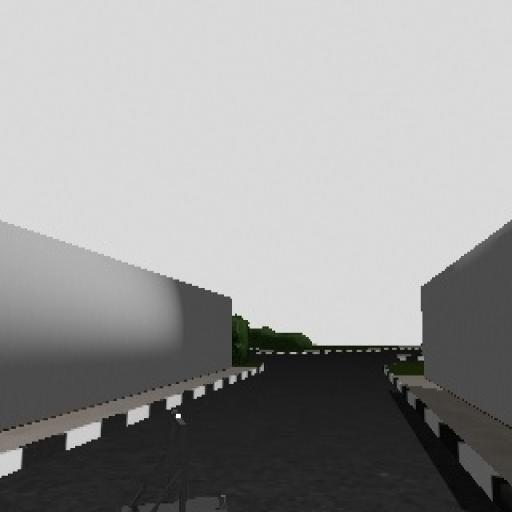huskya200: (134, 395, 230, 512)
